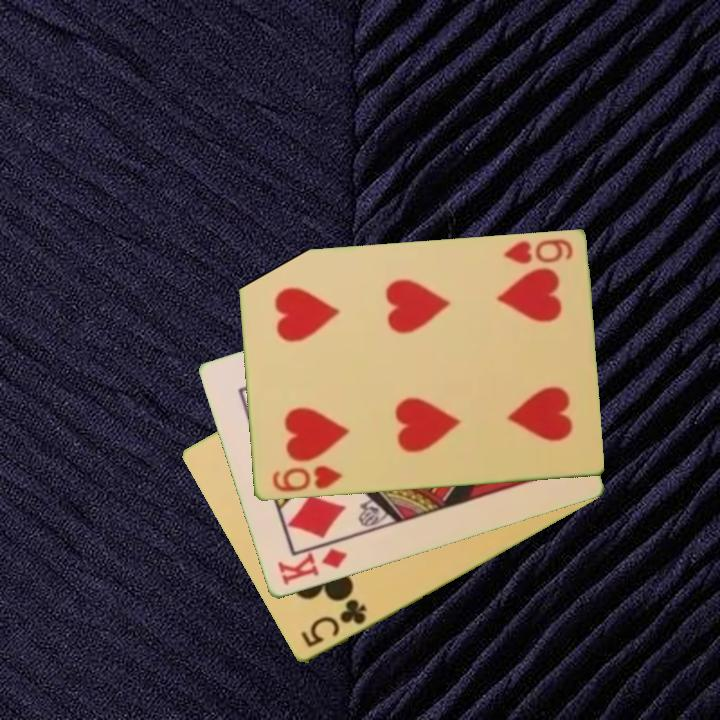5c: (297, 595, 370, 651)
6h: (268, 462, 345, 496), (500, 236, 576, 267)
Kd: (274, 545, 350, 589)
